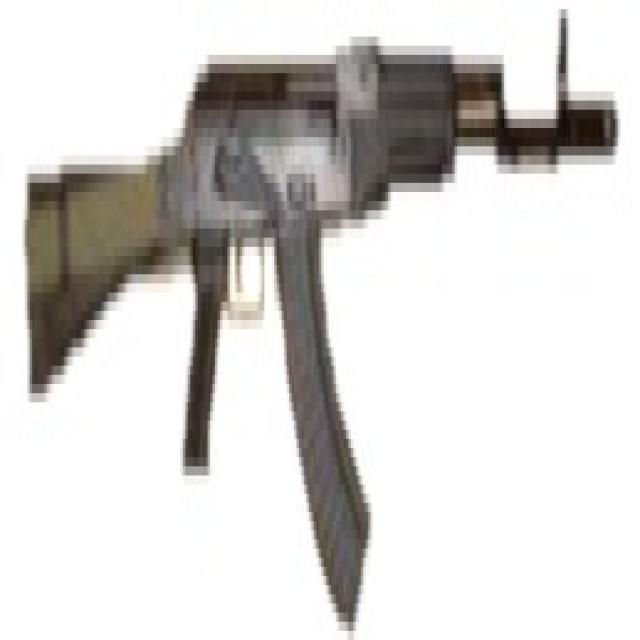rifle: (16, 1, 620, 640)
